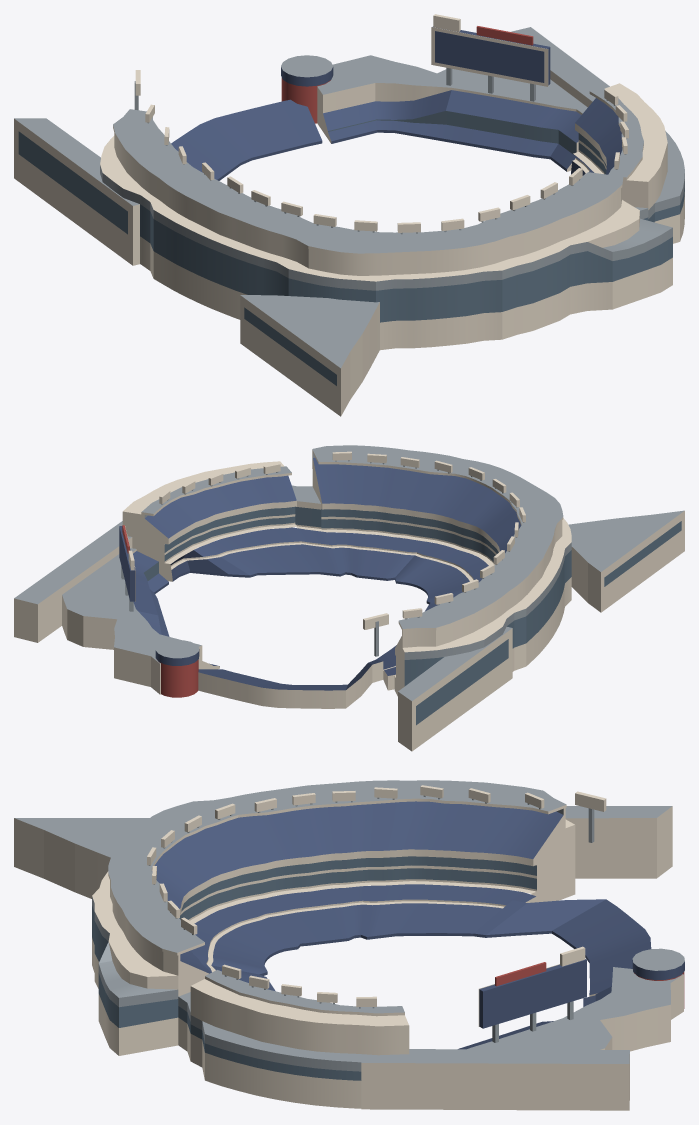
3 views of the same model, one above another, from view 1: azimuth 30°, elevation 25°; view 2: azimuth 150°, elevation 25°; view 3: azimuth 270°, elevation 25° (orthographic). The views are drawn at different scales.
Visible parts, largest first — view 1: nationals-park; view 2: nationals-park; view 3: nationals-park.
Part boxes in pixels (box(x1,y1,x2,y2)): nationals-park: box(14, 14, 684, 416); nationals-park: box(14, 445, 684, 751); nationals-park: box(14, 780, 684, 1110).
Size of the model in its own units: 225 by 48 by 261.
